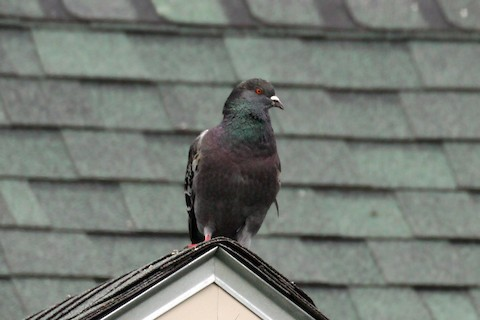pigeon: (181, 73, 292, 251)
